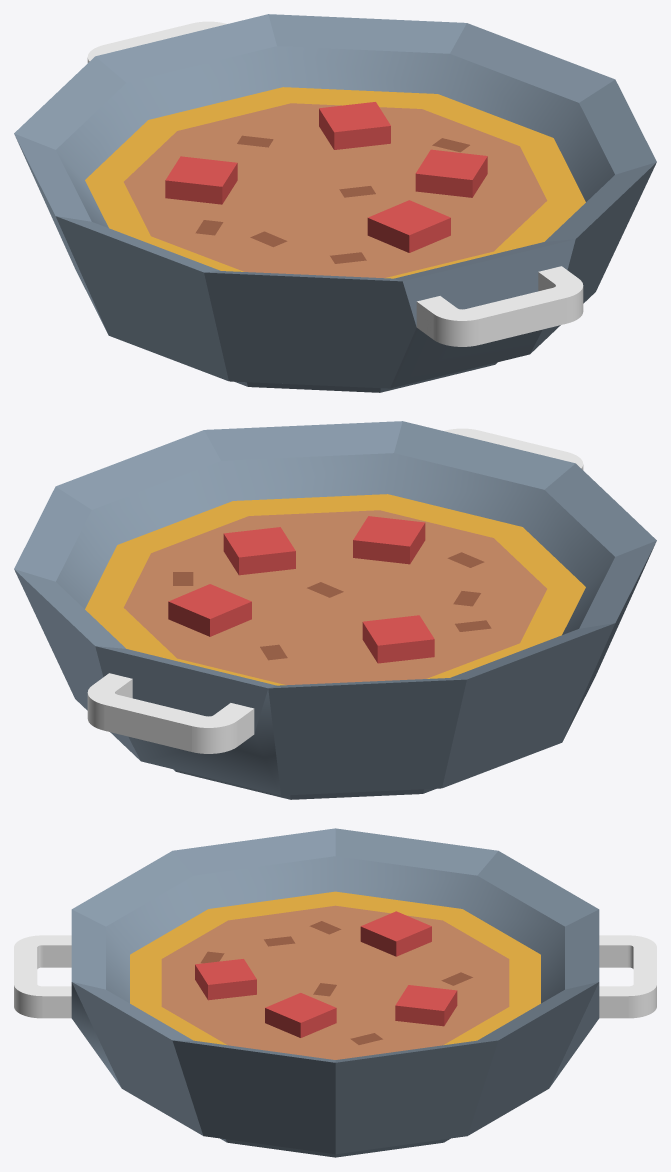
Rendered from panStew.obj.
The picture shows the model from 3 angles, top to bottom: view 1: azimuth 30°, elevation 25°; view 2: azimuth 150°, elevation 25°; view 3: azimuth 270°, elevation 25°; orthographic projection. The views are drawn at different scales.
Parts seen in each view (by area): view 1: panStew; view 2: panStew; view 3: panStew.
Part boxes in pixels (bbox=[...]): panStew: bbox=[14, 14, 656, 392]; panStew: bbox=[14, 421, 656, 799]; panStew: bbox=[14, 828, 656, 1157].
Bounding box in the file's own units: 0.6574 × 0.1753 × 0.7621.
